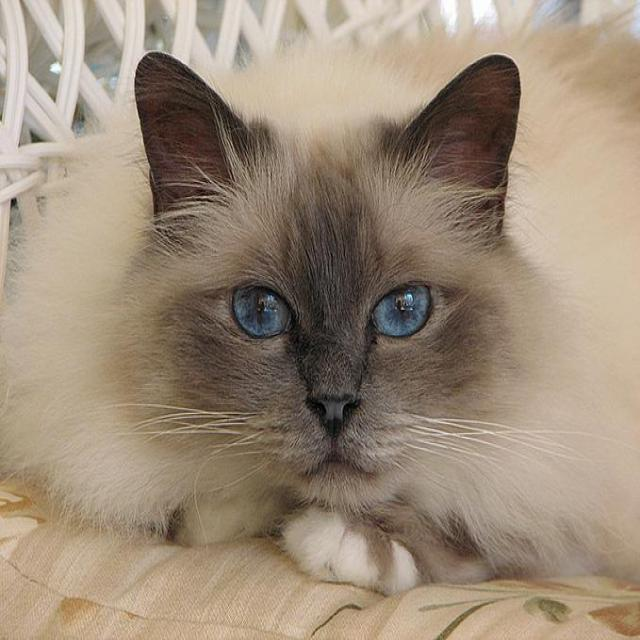Birman: (119, 48, 557, 517)
